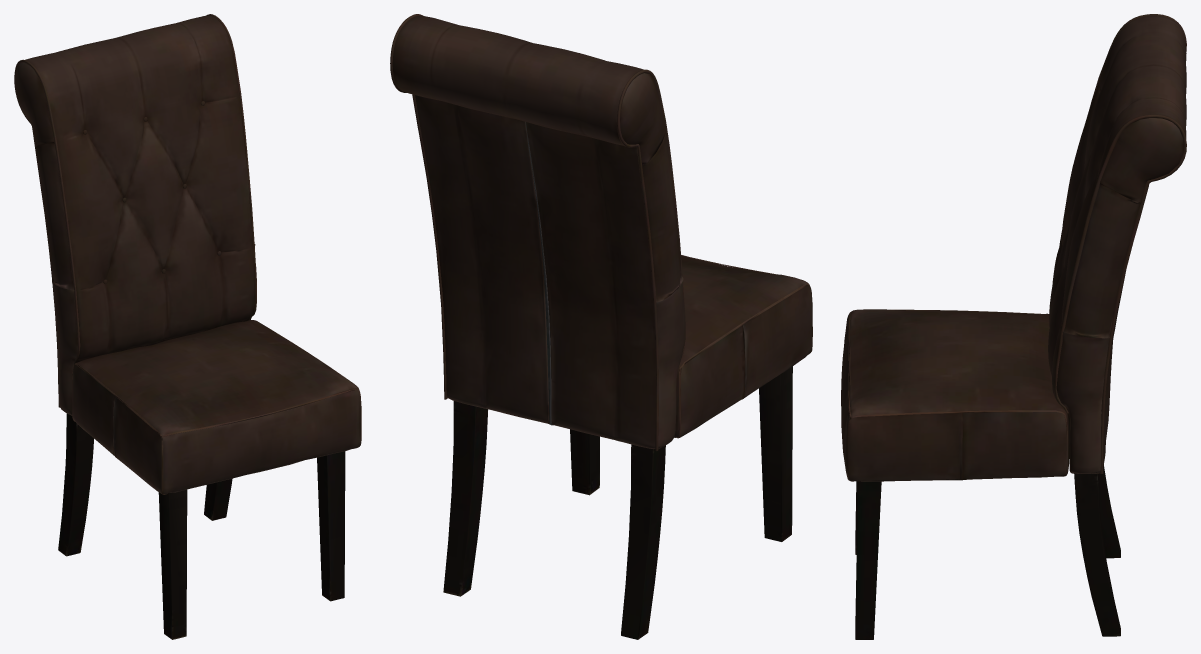
The model's file is ph-dining-chair-leather-low.glb.
3 views of the same model, side by side, from view 1: azimuth 30°, elevation 25°; view 2: azimuth 150°, elevation 25°; view 3: azimuth 270°, elevation 25° (orthographic). The views are drawn at different scales.
Visible parts, largest first — view 1: dining_chair_02; view 2: dining_chair_02; view 3: dining_chair_02.
Part boxes in pixels (left/top/right/bottom): dining_chair_02: left=14, top=14, right=361, bottom=639; dining_chair_02: left=390, top=14, right=812, bottom=639; dining_chair_02: left=841, top=14, right=1186, bottom=639.
Size of the model in its own units: 0.4335 by 0.9734 by 0.5764.
1 material, 1 textured.
